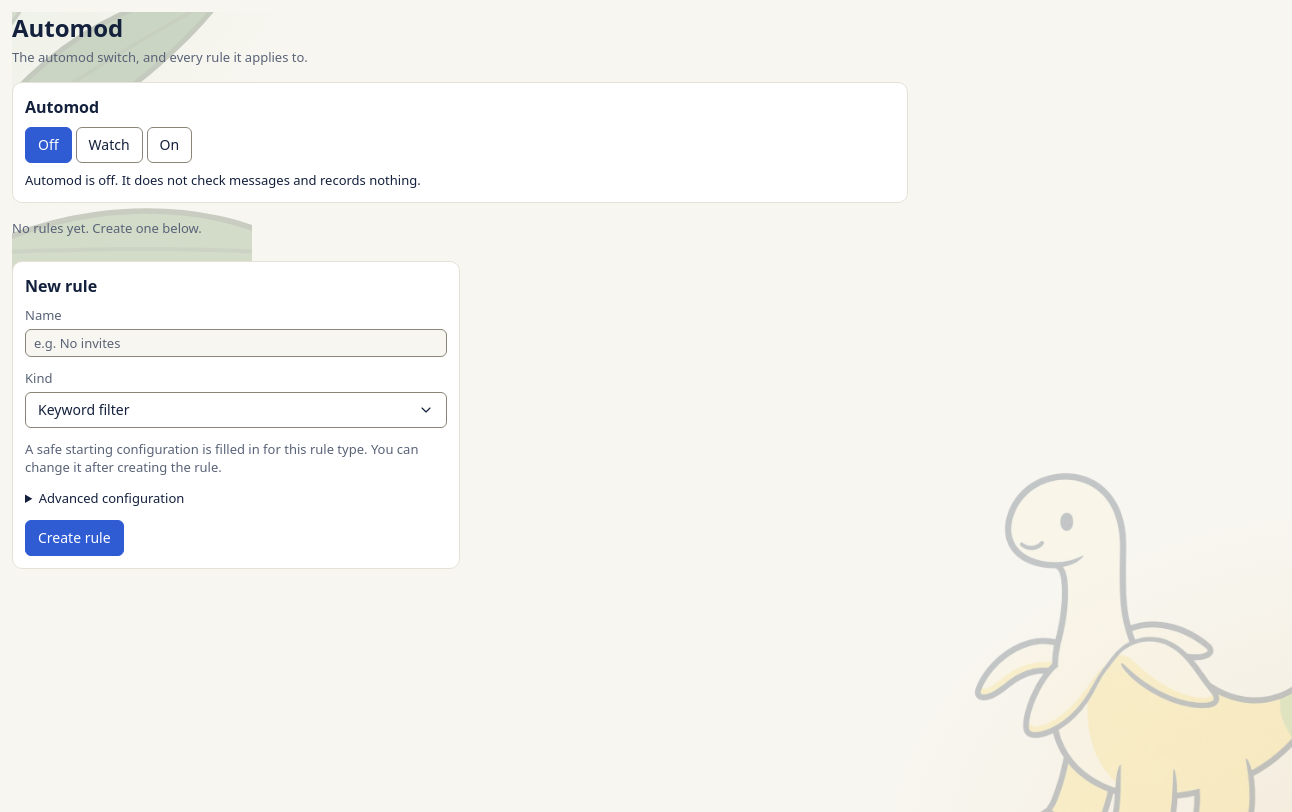
Scenario: AutomodRulesPage › renders a 409 through the server answer
Expected: the text "No rules yet. Create one below." is shown, [12, 219, 202, 237]
Type "No links" into the field labelled "Name" at (236, 343), box [25, 329, 447, 357]
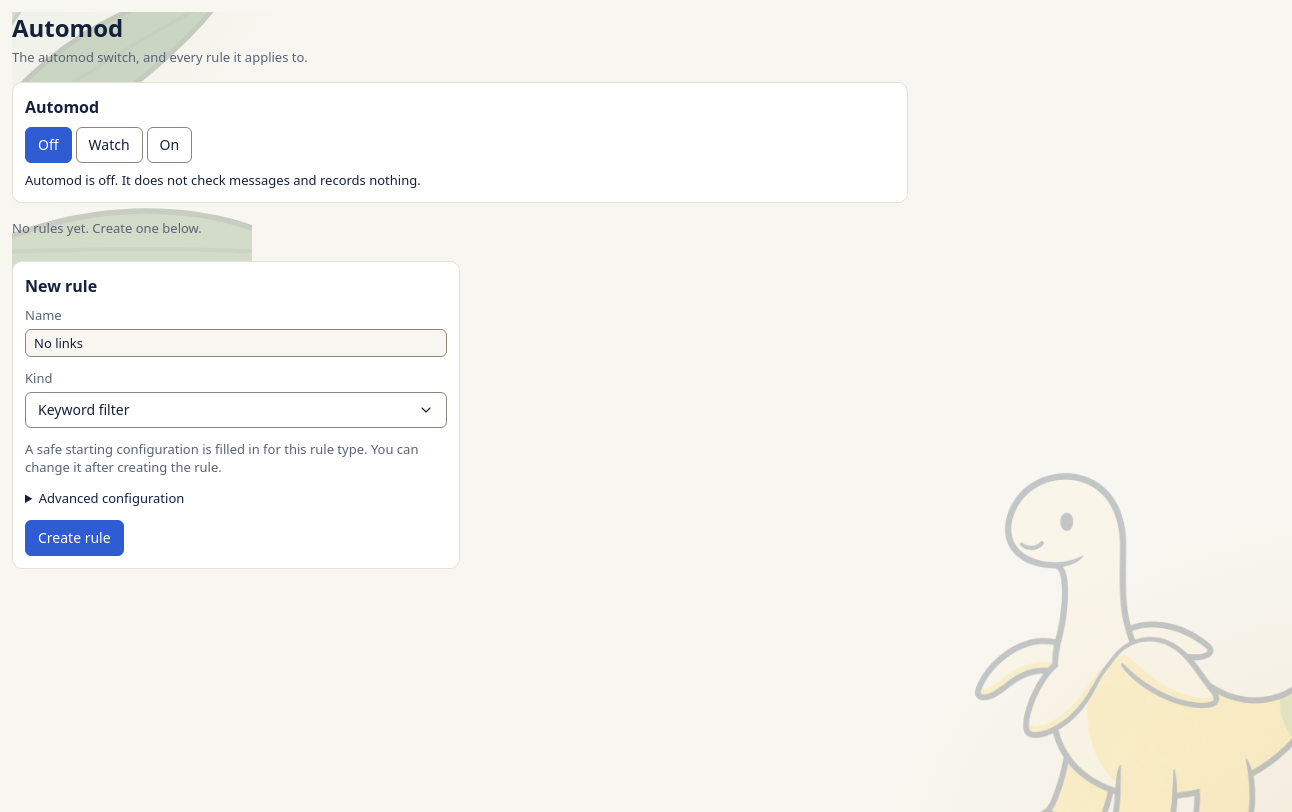
Click the button "Create rule" at (74, 538), box [25, 520, 124, 556]
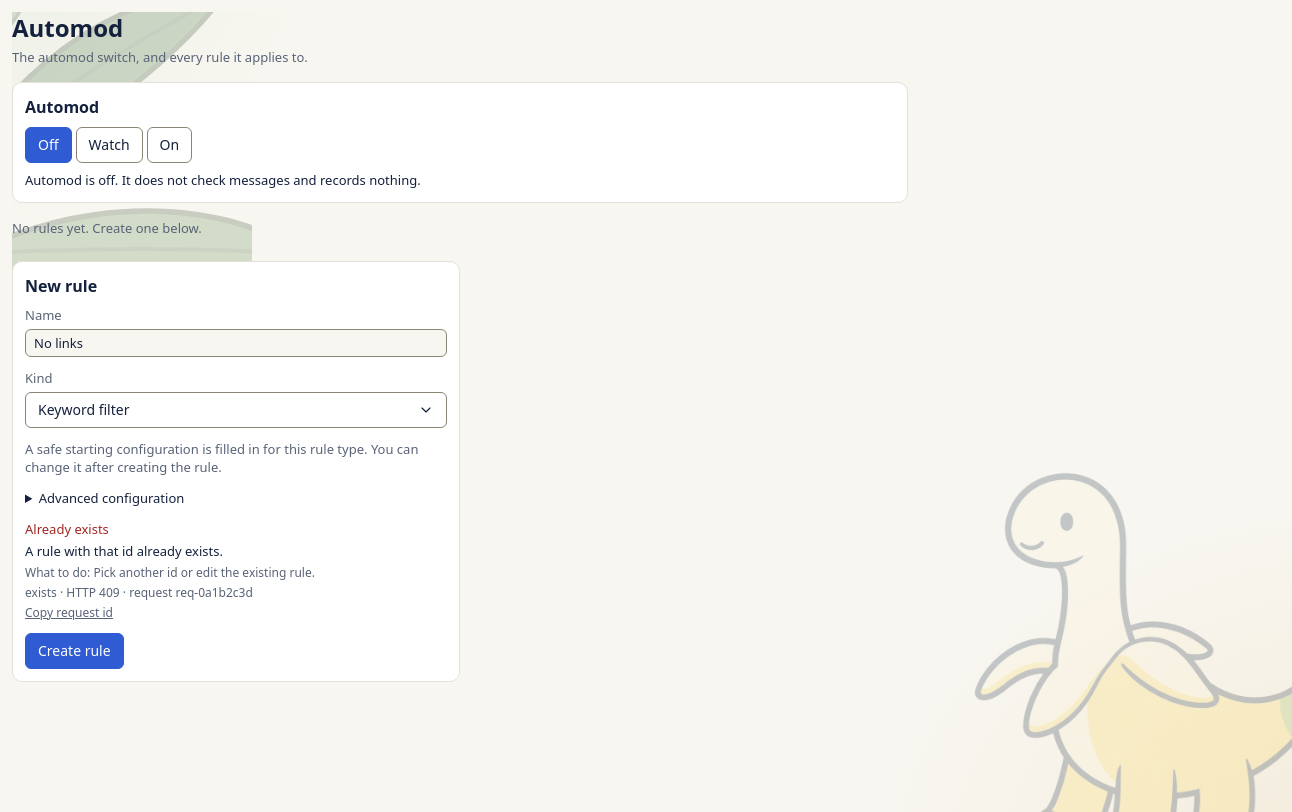
Now the text "Already exists" is shown, box [25, 520, 109, 538]
Now the text "A rule with that id already exists." is shown, box [25, 542, 223, 560]
